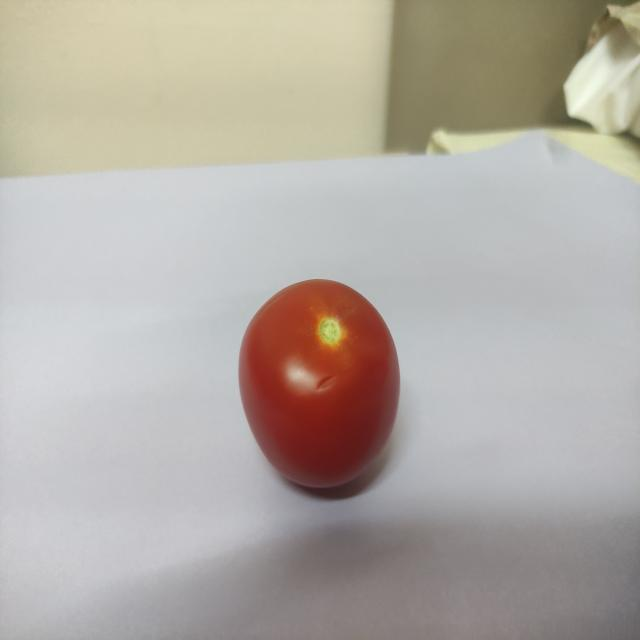kirmizi: (236, 273, 408, 507)
